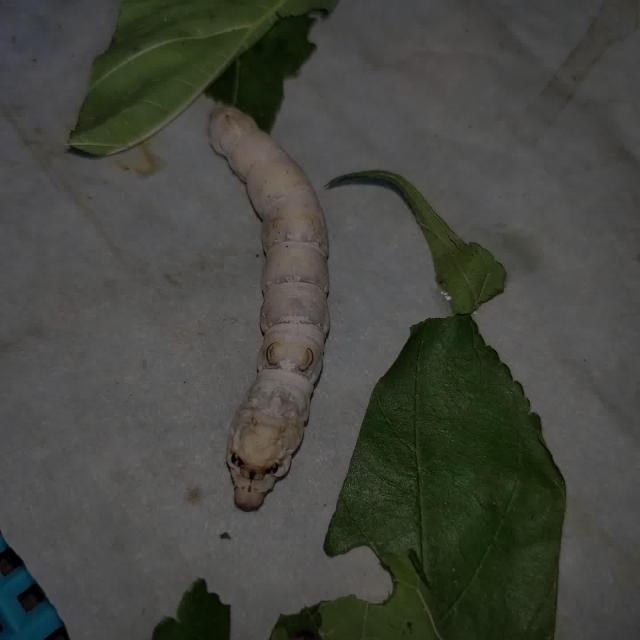Grasserie: (187, 74, 379, 527)
